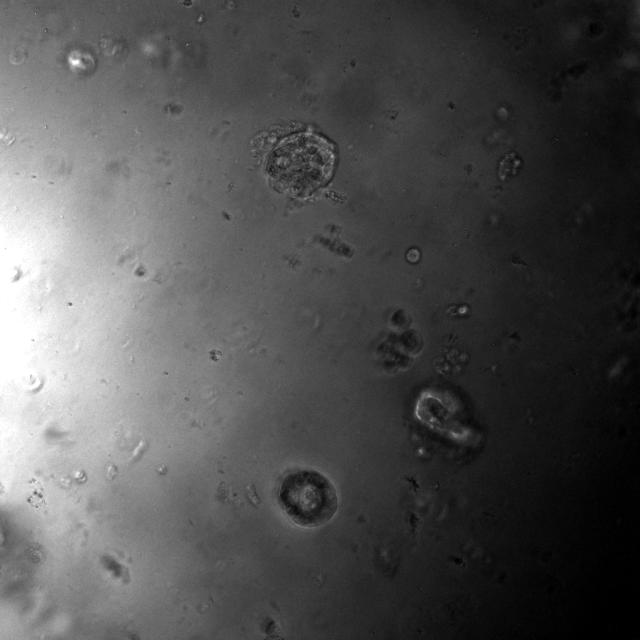organoid: (251, 122, 345, 203), (412, 386, 481, 449), (278, 469, 338, 528), (376, 308, 422, 372), (433, 345, 469, 376), (498, 151, 522, 181), (405, 245, 422, 264), (264, 635, 284, 639)
